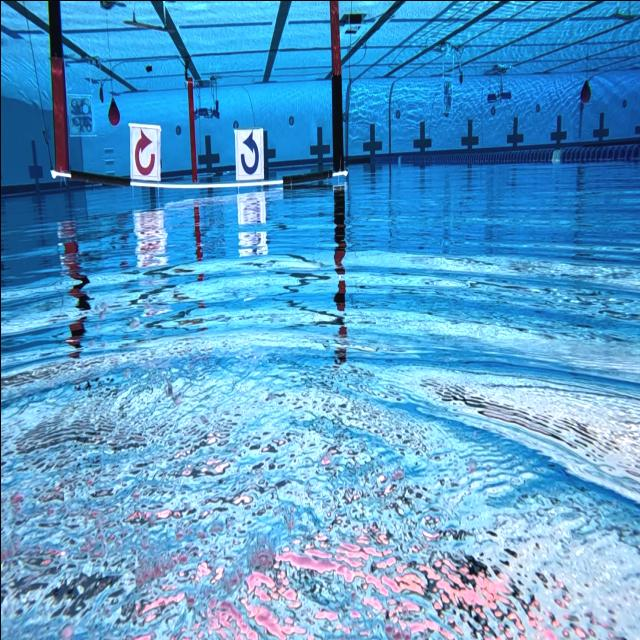blue_side: (232, 116, 270, 186)
red_side: (122, 118, 166, 187)
